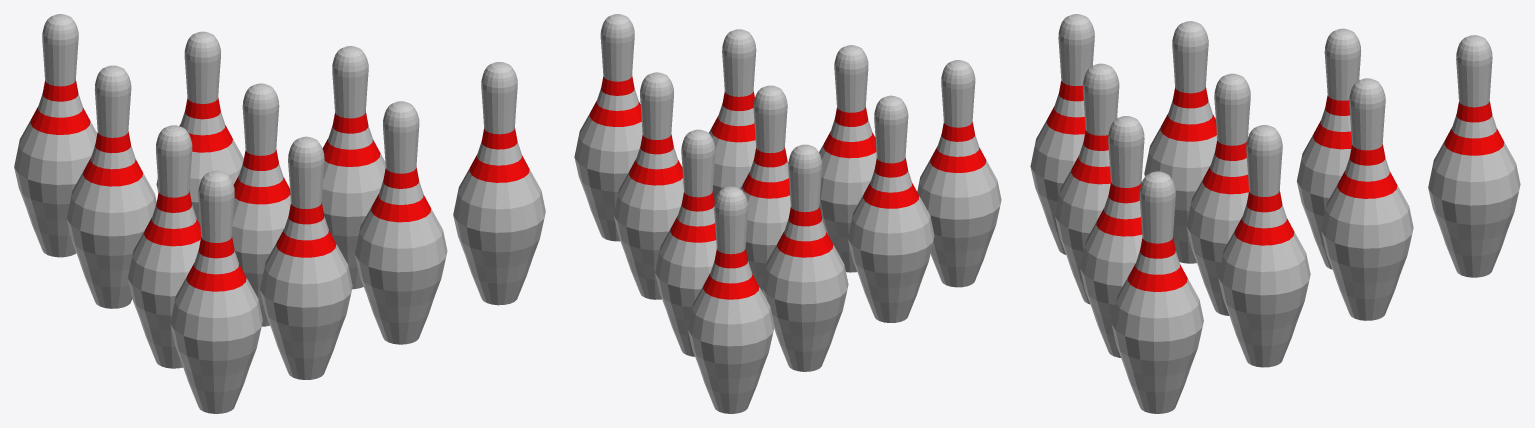
The model's file is 7RQbiSQVGNy.glb.
The picture shows the model from 3 angles, left to right: view 1: azimuth 30°, elevation 25°; view 2: azimuth 150°, elevation 25°; view 3: azimuth 270°, elevation 25°; orthographic projection. The views are drawn at different scales.
Visible parts, largest first — view 1: Cylinder007; view 2: Cylinder007; view 3: Cylinder007.
Part boxes in pixels (left/top/right/bottom): Cylinder007: left=14, top=14, right=545, bottom=413; Cylinder007: left=574, top=14, right=1001, bottom=413; Cylinder007: left=1030, top=14, right=1520, bottom=413.
Bounding box in the file's own units: 1.81 × 1 × 1.91.
